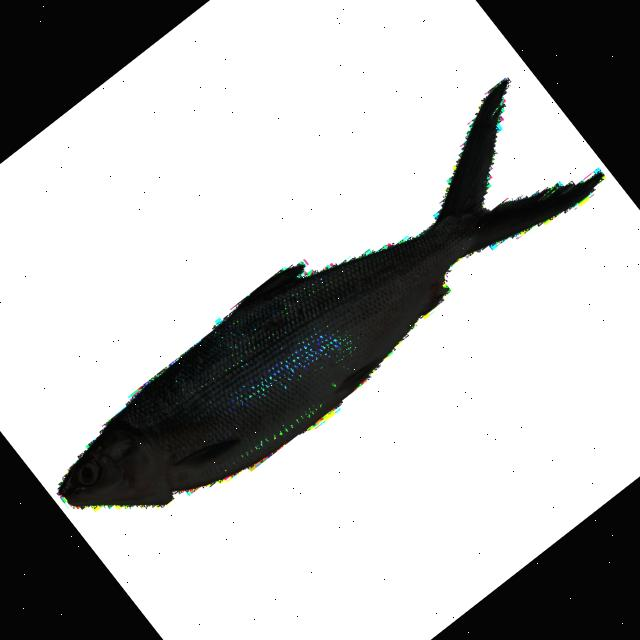Healthy Fish: (60, 81, 601, 506)
